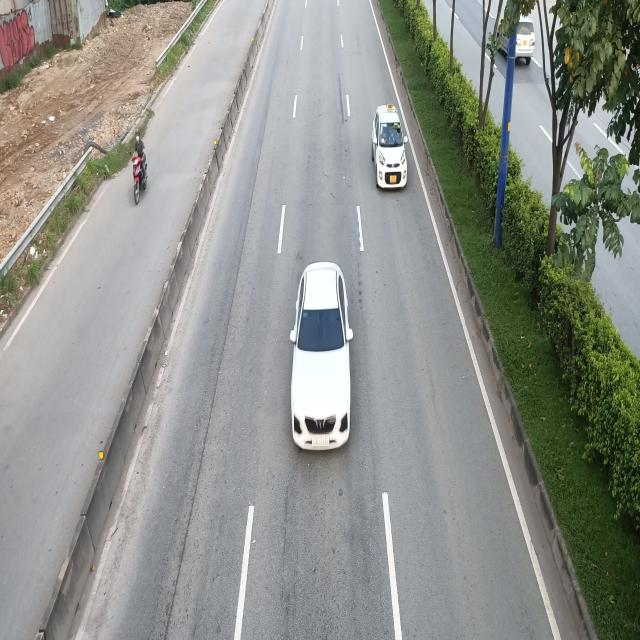car: (291, 265, 356, 451), (371, 104, 408, 191)
